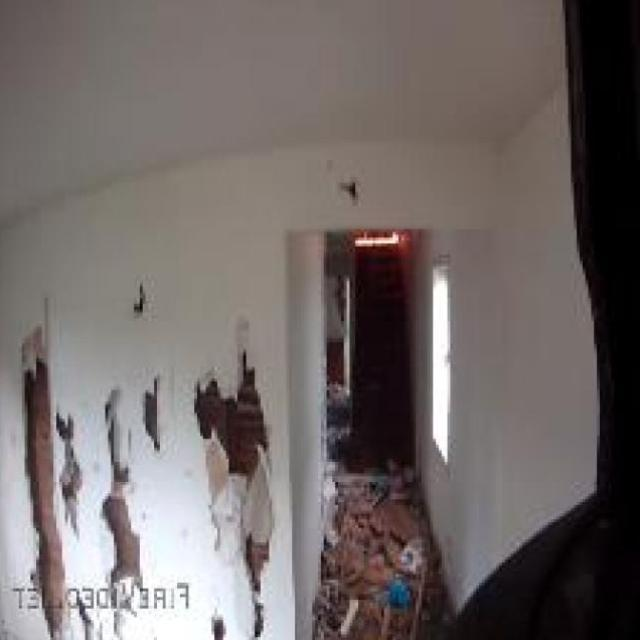smoke: (352, 232, 405, 249)
